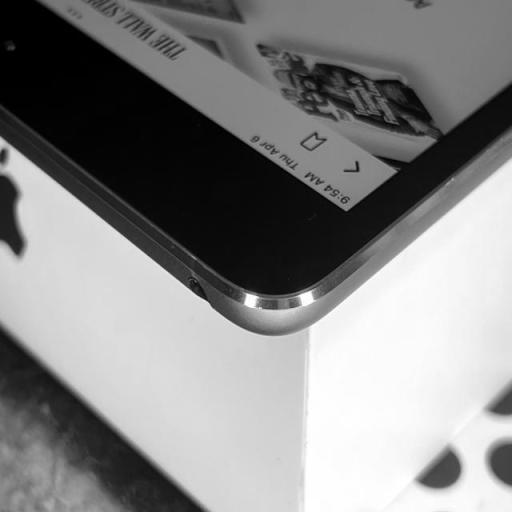phone: (0, 0, 511, 339)
